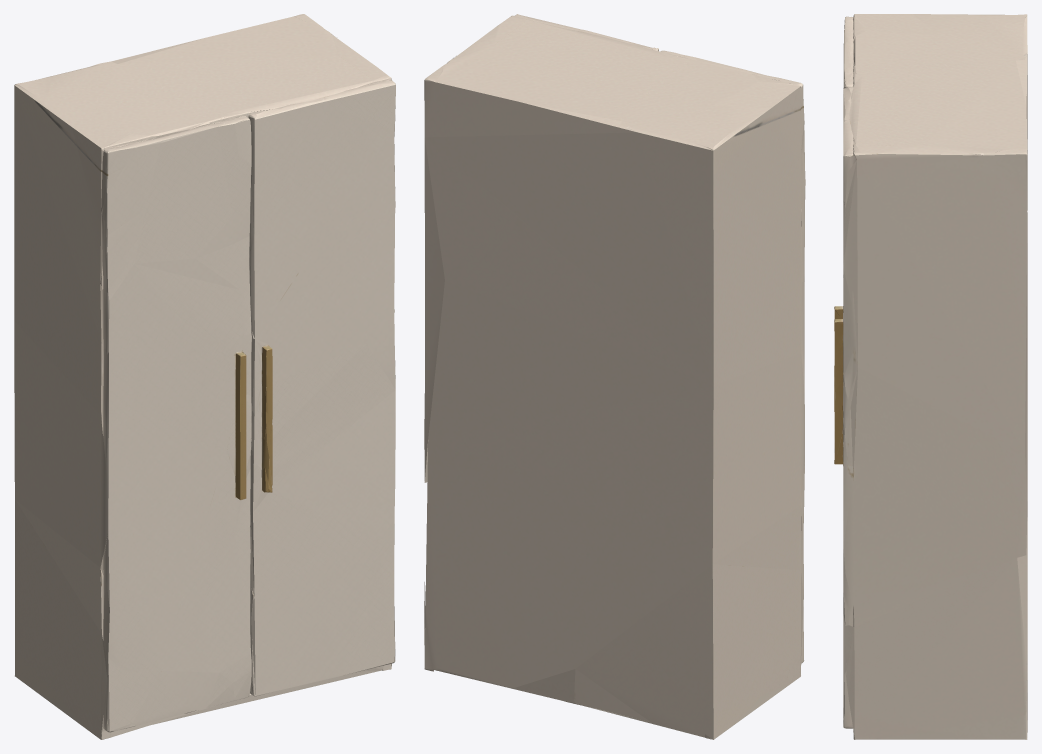
File: raw_wardrobe.glb
The picture shows the model from 3 angles, left to right: view 1: azimuth 30°, elevation 25°; view 2: azimuth 150°, elevation 25°; view 3: azimuth 270°, elevation 25°; orthographic projection.
Size of the model in its own units: 0.9784 by 1.9 by 0.5679.
1 material, 1 textured.
